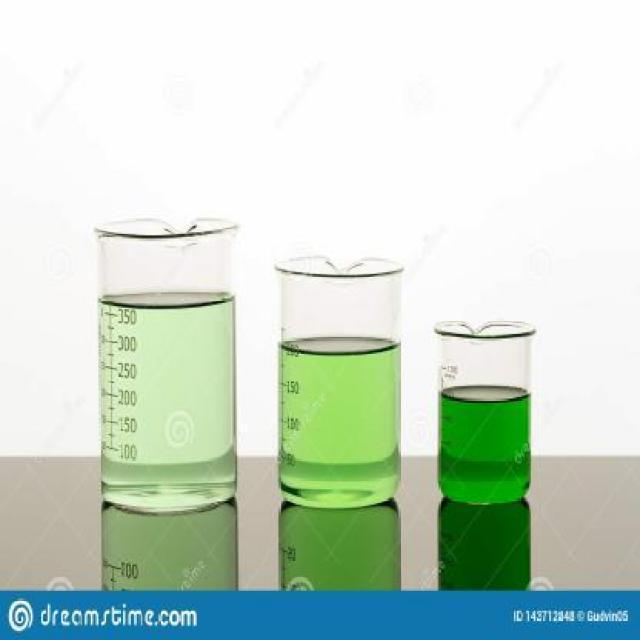Beaker: (80, 206, 241, 512), (272, 249, 405, 512), (428, 312, 541, 513)
